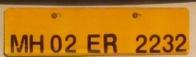0: (49, 33, 63, 54)
2: (64, 32, 80, 55), (134, 32, 149, 54), (176, 33, 188, 54), (150, 33, 161, 54)
3: (163, 33, 175, 53)
E: (86, 32, 101, 54)
H: (30, 32, 45, 54)
M: (8, 31, 29, 54)
R: (103, 32, 120, 54)
